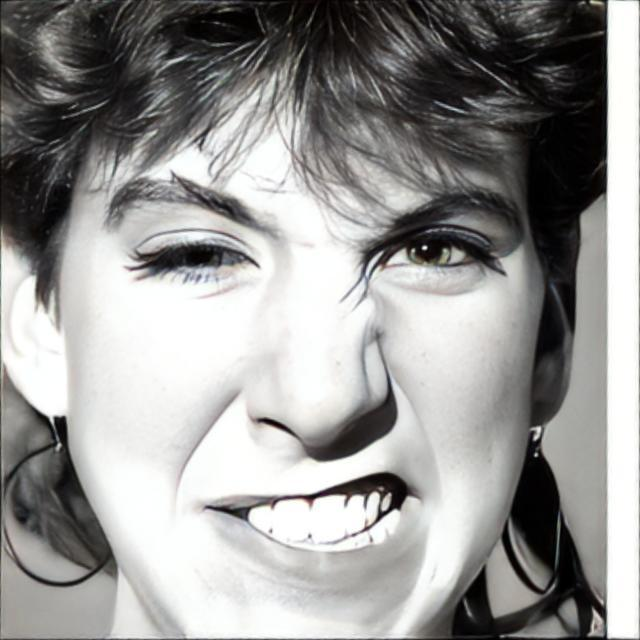anger: (63, 55, 539, 640)
